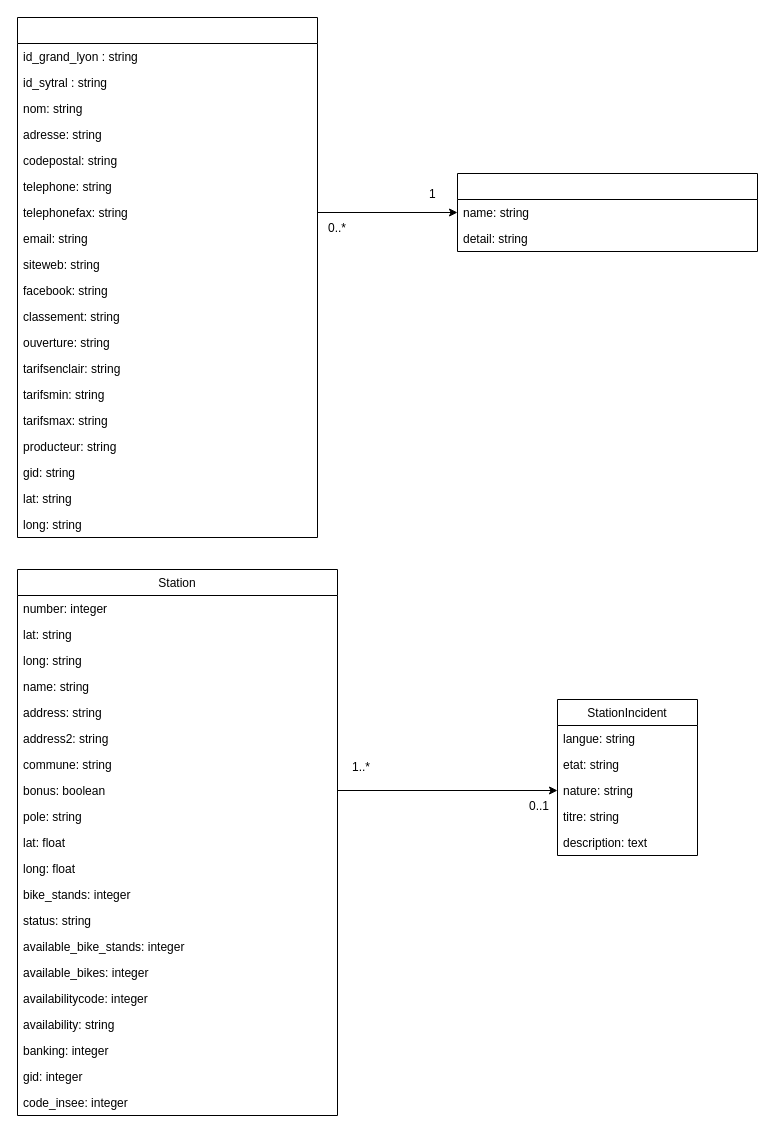
The diagram is 775 pixels wide and 1136 high, and some of its shapes have lost their labels. Each missing label, with the box of its shape:
InterestPoint: (16, 16, 318, 538)
InterestPointType: (456, 172, 758, 252)
